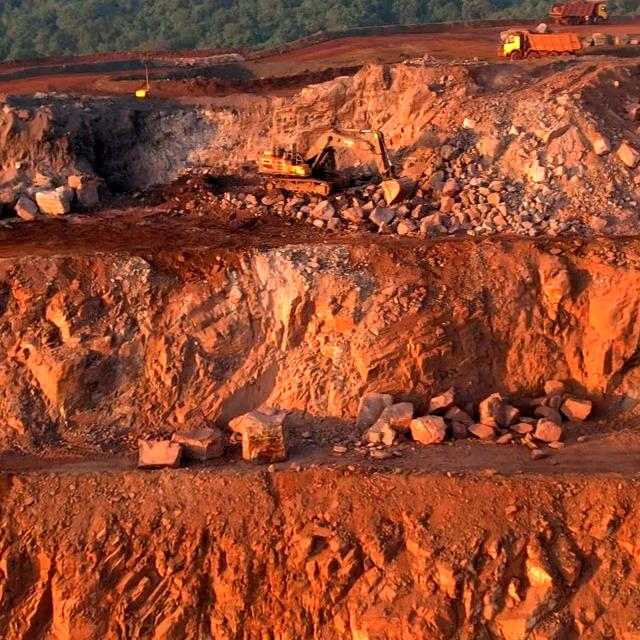Dumper truck: (503, 30, 581, 57), (547, 0, 606, 23)
Excavator: (258, 138, 344, 195)
